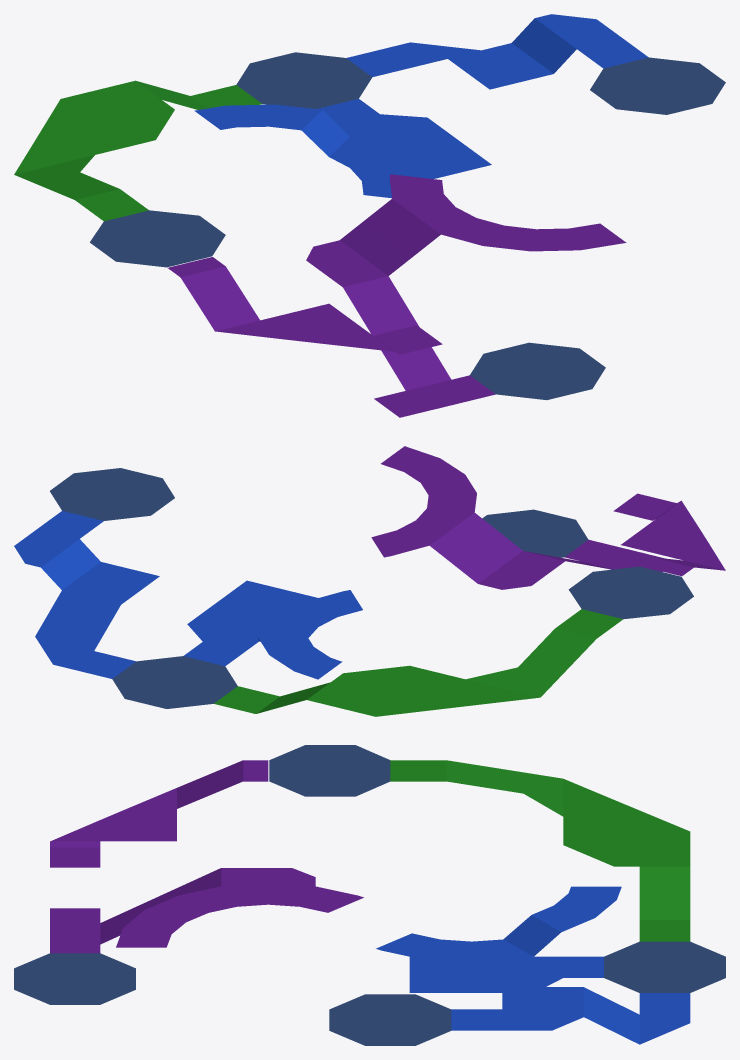
File: floor_new.fbx
The picture shows the model from 3 angles, top to bottom: view 1: azimuth 30°, elevation 25°; view 2: azimuth 150°, elevation 25°; view 3: azimuth 270°, elevation 25°; orthographic projection. The views are drawn at different scales.
Visible parts, largest first — view 1: Floor_2; view 2: Floor_2; view 3: Floor_2.
Part boxes in pixels (x1,y1,x2,y2): Floor_2: [14, 14, 725, 417]; Floor_2: [14, 446, 725, 716]; Floor_2: [14, 745, 725, 1045].
Size of the model in its own units: 2756 by 394 by 2756.
